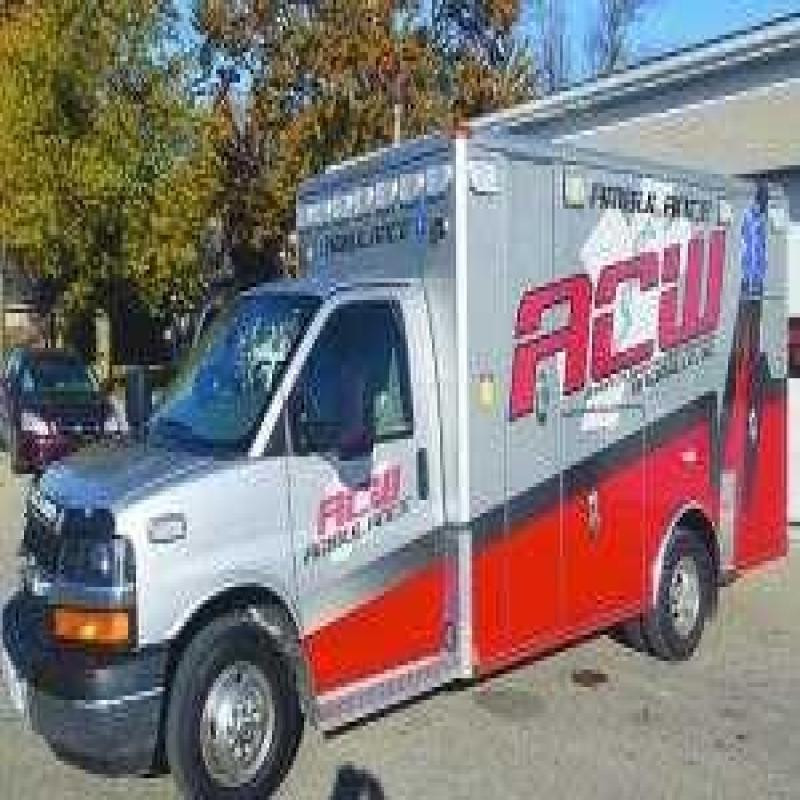AmbulanceSiren: (271, 155, 461, 240)
